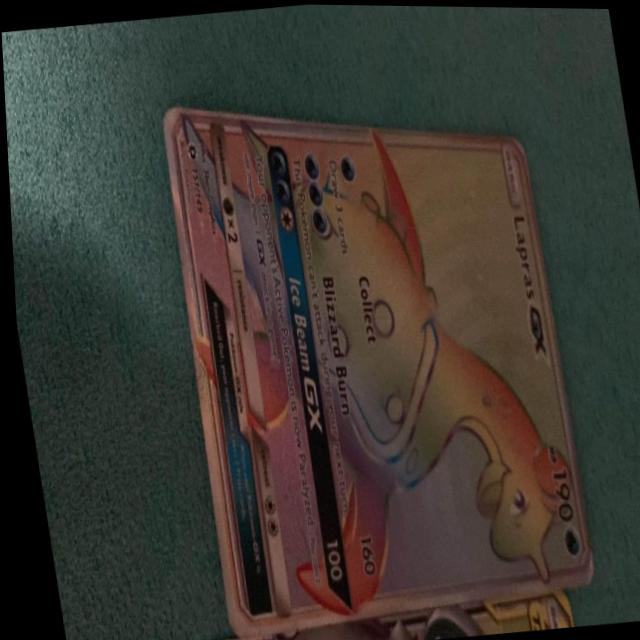card: (159, 106, 587, 640)
